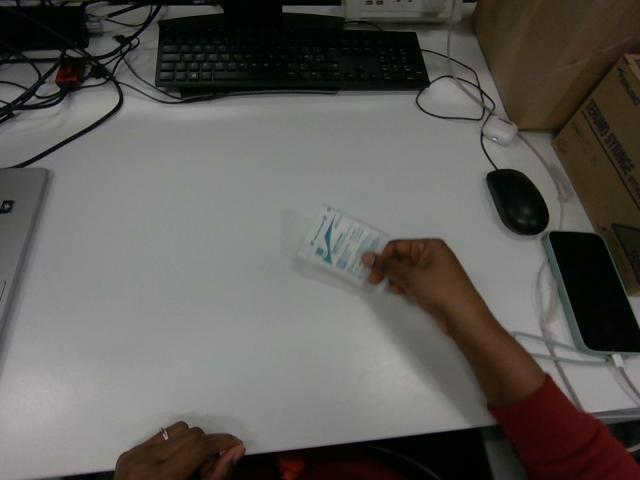gauze: (298, 205, 388, 285)
